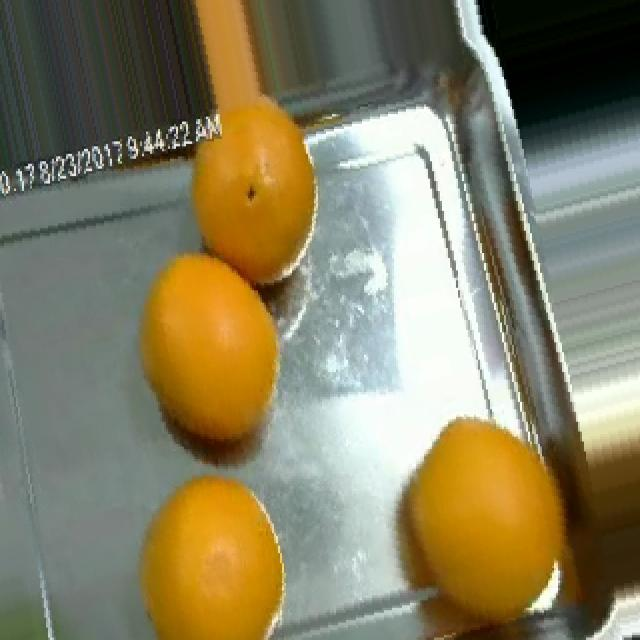Fruit: (168, 107, 346, 310), (118, 456, 308, 640), (454, 0, 640, 146)
